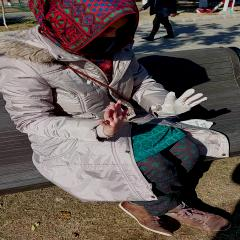gloved: (152, 89, 206, 118)
not-gloved: (100, 98, 128, 134)
